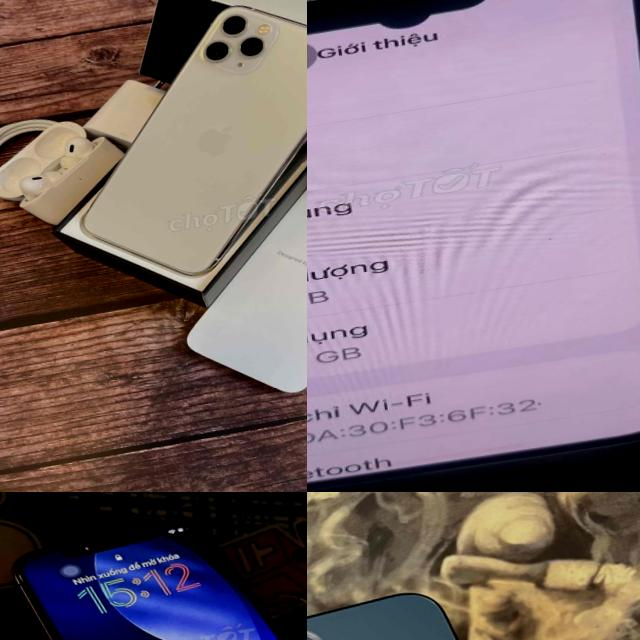gen_11: (42, 0, 307, 291)
gen_12_13: (307, 0, 640, 492), (0, 492, 307, 640), (307, 570, 602, 640)
